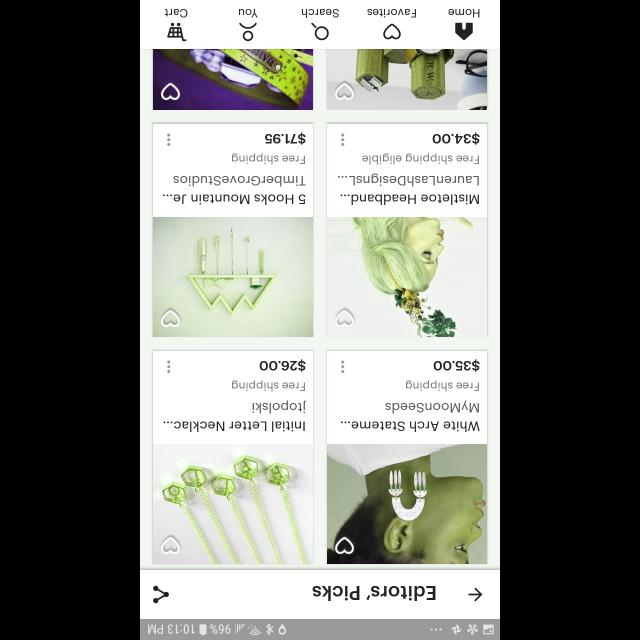icon: (167, 22, 187, 42), (160, 83, 180, 101), (160, 536, 180, 554), (334, 536, 354, 554), (239, 22, 257, 42), (311, 23, 329, 41), (455, 22, 473, 40), (334, 84, 354, 100), (334, 310, 354, 326), (160, 310, 180, 326), (153, 585, 169, 603), (383, 24, 401, 40), (468, 587, 482, 601), (166, 360, 170, 372), (342, 134, 344, 146), (168, 134, 170, 146), (342, 360, 344, 372)
image: (326, 216, 486, 336), (152, 216, 312, 336), (153, 444, 313, 564), (326, 444, 486, 564), (153, 50, 313, 110), (328, 50, 487, 110)
text: (163, 400, 305, 432), (338, 173, 478, 205), (162, 175, 306, 205), (341, 401, 479, 432), (312, 585, 436, 601), (362, 153, 478, 165), (232, 380, 304, 392), (232, 154, 304, 164), (406, 380, 478, 390), (259, 358, 305, 372), (432, 132, 480, 144), (433, 360, 479, 372), (264, 132, 306, 144), (366, 8, 416, 18), (302, 9, 338, 19), (448, 8, 480, 18), (165, 8, 188, 18), (238, 8, 258, 18)
uppertaskbar: (140, 618, 500, 640)
